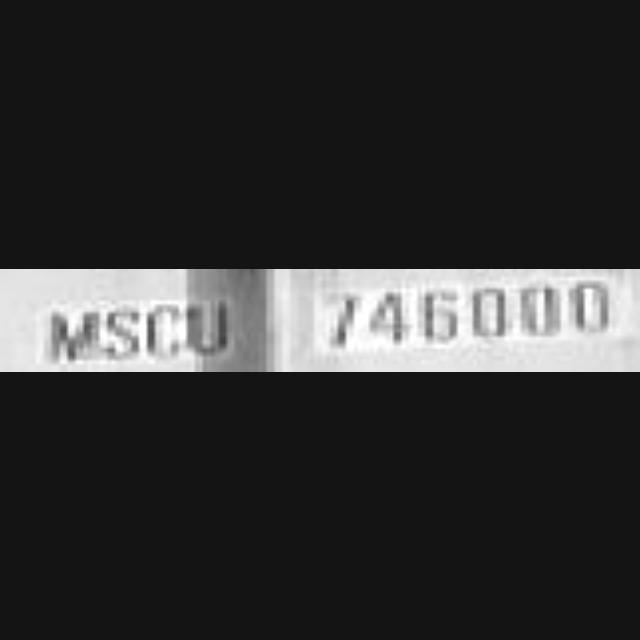0: (464, 278, 514, 342), (566, 274, 614, 338), (518, 280, 566, 338)
4: (366, 283, 416, 351)
6: (413, 284, 461, 346)
7: (318, 288, 364, 349)
c: (144, 296, 184, 364)
m: (43, 303, 103, 367)
s: (104, 298, 142, 366)
u: (184, 296, 233, 359)
